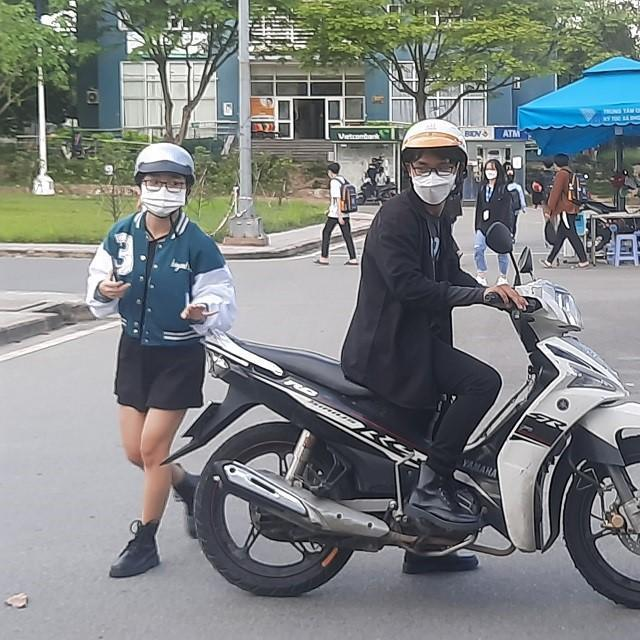Helmet: (400, 116, 470, 204), (130, 138, 194, 218)
